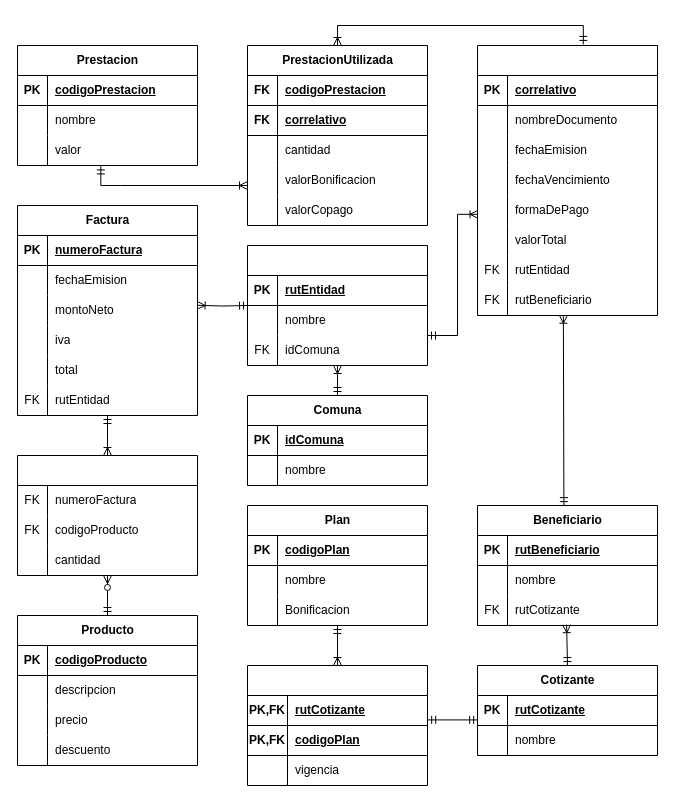
The diagram is 675 pixels wide and 803 high, and some of its shapes have lost their labels. Each missing label, with the box of its shape:
afiliacionPlan: (246, 664, 428, 786)
Bono: (476, 44, 658, 316)
EntidadProfesional: (246, 244, 428, 366)
Venta: (16, 454, 198, 576)
